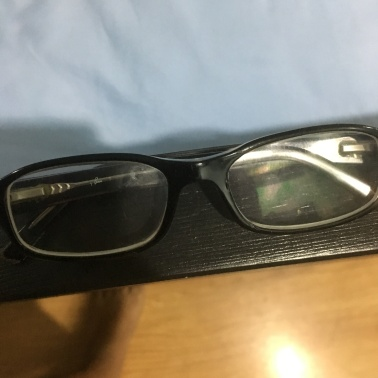glasses: (7, 149, 378, 254)
